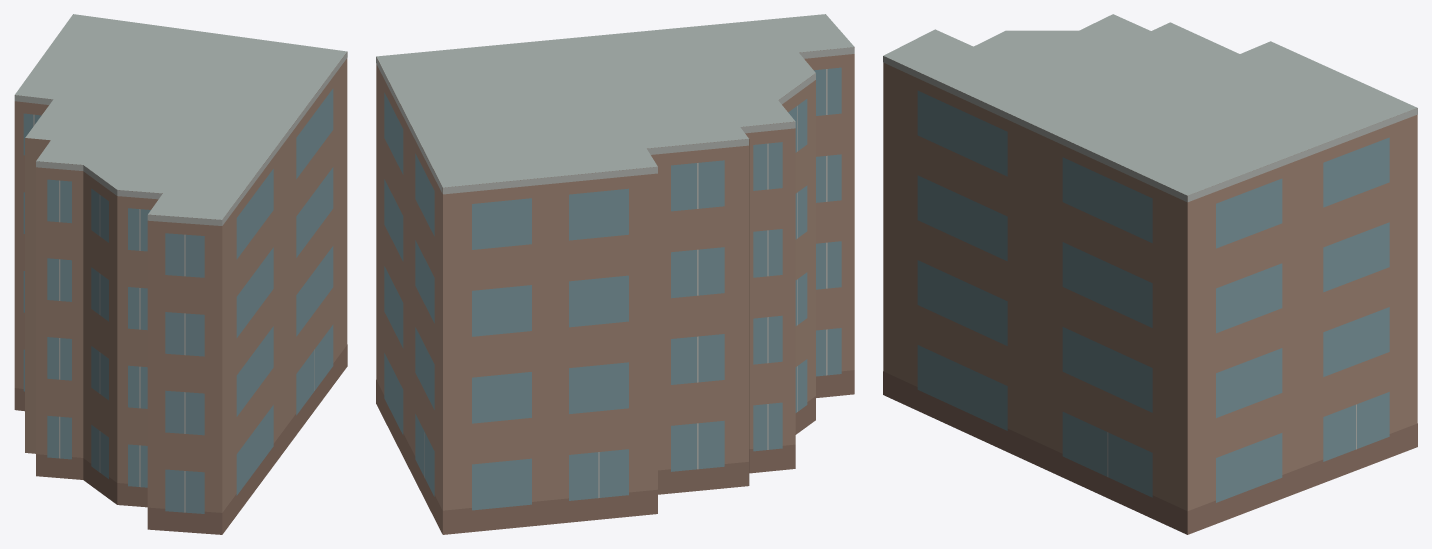
Rendered from survey-upis-32669587.glb.
The picture shows the model from 3 angles, left to right: view 1: azimuth 30°, elevation 25°; view 2: azimuth 150°, elevation 25°; view 3: azimuth 270°, elevation 25°; orthographic projection. The views are drawn at different scales.
Parts seen in each view (by area): view 1: survey-upis-32669587.tmp; view 2: survey-upis-32669587.tmp; view 3: survey-upis-32669587.tmp.
Boxes of the visible parts, left/top/right/bottom form: survey-upis-32669587.tmp: left=14, top=14, right=347, bottom=534; survey-upis-32669587.tmp: left=376, top=14, right=854, bottom=534; survey-upis-32669587.tmp: left=883, top=14, right=1417, bottom=534.
Size of the model in its own units: 14.26 by 12.4 by 17.72.
